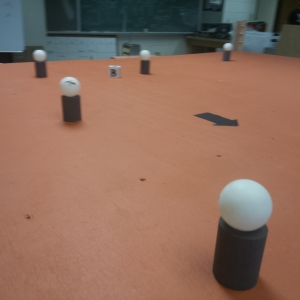blockB: (108, 64, 122, 79)
corner: (232, 20, 246, 45)
obstacle: (211, 178, 276, 291), (59, 77, 84, 122), (32, 49, 49, 79), (140, 49, 150, 75), (222, 43, 232, 60)
start: (195, 110, 241, 129)
